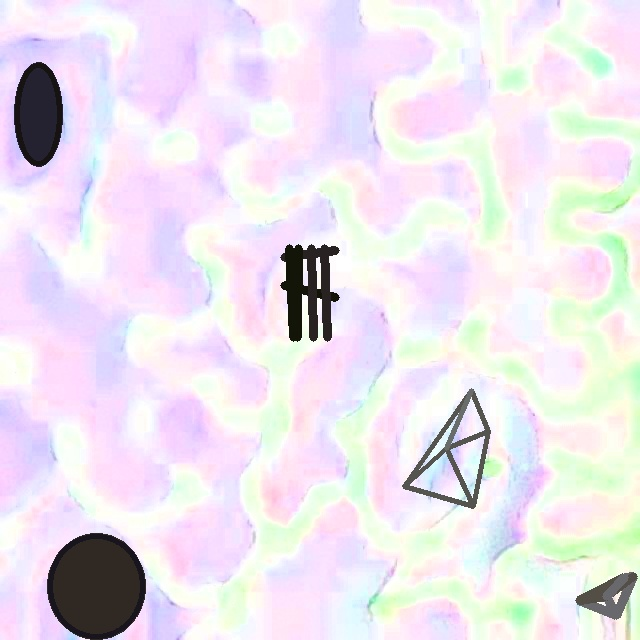close: (280, 244, 339, 341)
open: (46, 533, 145, 639), (403, 389, 489, 508), (14, 62, 62, 166), (575, 573, 637, 619)
